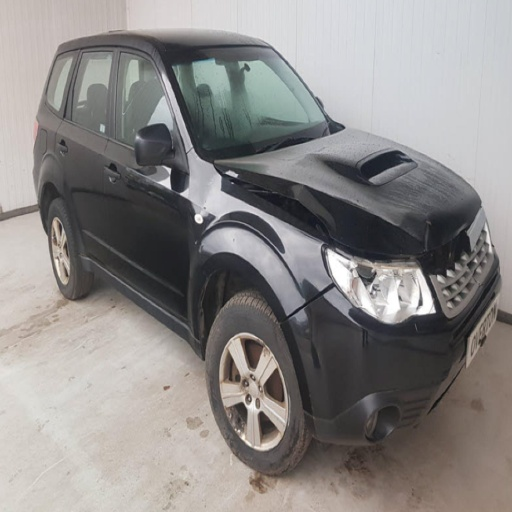dent: (398, 210, 473, 256)
rust: (225, 405, 246, 440), (238, 374, 252, 394), (258, 338, 271, 357), (220, 375, 228, 393), (278, 430, 282, 438), (52, 225, 54, 241), (284, 425, 285, 428)
